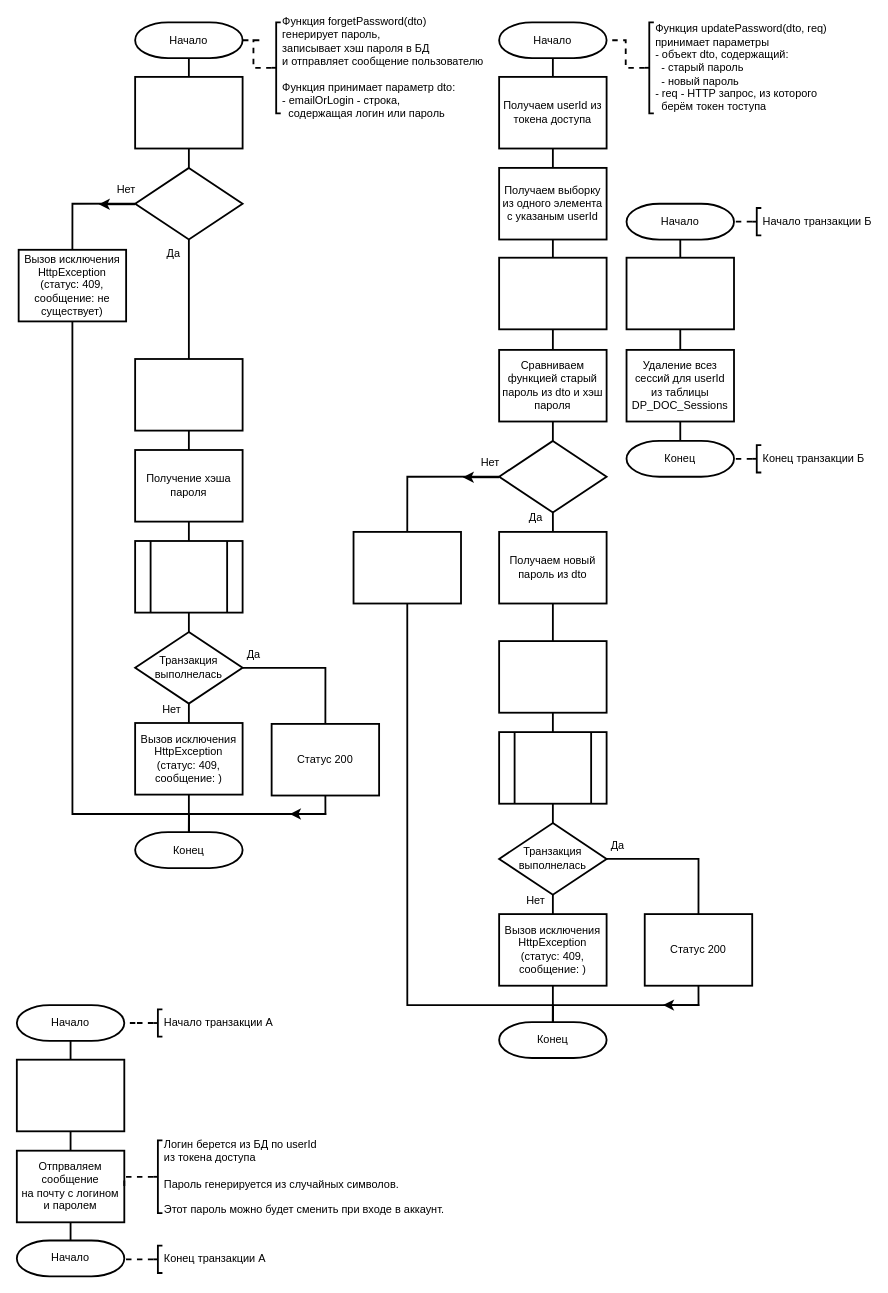
Image size: 888x1293. Some labels were removed from this diagram. The shapes that lost their labels are listed below. From the top down, each one's centre as x and y in pixels, then its label:
the point at 188,112: Находим кандидата по логину или email
the point at 188,203: Кандидат найден
the point at 552,293: Получаем хэш пароля с выборки
the point at 679,293: Сохранение нового хэша пароля по userId в таблицу DP_CTL_Users
the point at 188,394: Генерация пароля
the point at 552,476: проверка пароля не успешна
the point at 188,576: Выполнение транзакции А
the point at 406,567: Вызов исключения HttpException (Статус 409, сообщение: не тот старый пароль)
the point at 552,676: Получаем хэш нового пароля
the point at 552,767: Выполнение транзакции Б
the point at 70,1095: Сохраняем пользователю новый хэш пароля в таблицу DP_CTL_Users
